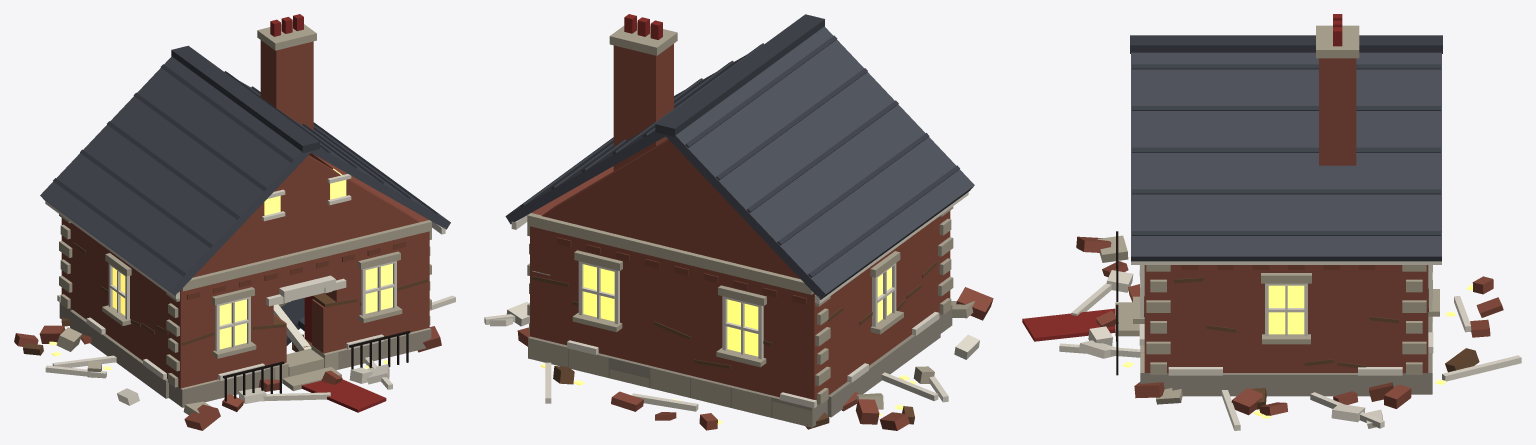
Rendered from house_ldn.glb.
3 views of the same model, side by side, from view 1: azimuth 30°, elevation 25°; view 2: azimuth 150°, elevation 25°; view 3: azimuth 270°, elevation 25° (orthographic). The views are drawn at different scales.
Parts seen in each view (by area): view 1: wall_front, wall_left, wall_front_broken, roof_left_c2, roof_left_c5, roof_left_c0, roof_left, roof_left_c1, roof_right_c5, roof_left_c3, wall_left_broken, roof_right (+15 smaller); view 2: wall_left, wall_back, roof_left_c0, roof_left_c3, roof_left_c2, wall_back_broken, roof_right_c3, roof_left, roof_right_c0, roof_left_c1, roof_left_c5, wall_left_broken (+16 smaller); view 3: wall_right, roof_right, roof_right_c2, roof_right_c0, roof_right_c5, wall_front_broken, roof_right_c3, roof_right_c4, wall_right_broken, roof_right_c1, wall_back_broken, wall_front (+7 smaller).
Part boxes in pixels (x1,y1,x2,y2): wall_front: (169, 222, 431, 407); wall_left: (59, 214, 179, 398); wall_front_broken: (181, 279, 441, 430); roof_left_c2: (123, 168, 253, 299); roof_left_c5: (206, 109, 311, 263); roof_left_c0: (40, 108, 169, 233); roof_left: (41, 50, 302, 298); roof_left_c1: (87, 142, 205, 260); roof_right_c5: (264, 107, 367, 250); roof_left_c3: (123, 47, 227, 142); wall_left_broken: (14, 242, 168, 405); roof_right: (181, 14, 441, 234); wall_left: (815, 206, 953, 416); wall_back: (527, 215, 827, 427); roof_left_c0: (731, 155, 879, 303); roof_left_c3: (665, 86, 784, 263); roof_left_c2: (826, 85, 974, 229); wall_back_broken: (528, 276, 829, 430); roof_right_c3: (600, 47, 672, 247); roof_left: (664, 19, 973, 303); roof_right_c0: (505, 19, 649, 231); roof_left_c1: (785, 125, 920, 259); roof_left_c5: (760, 16, 879, 124); wall_left_broken: (828, 261, 979, 430); wall_right: (1146, 265, 1426, 396); roof_right: (1130, 14, 1442, 264); roof_right_c2: (1131, 128, 1243, 261); roof_right_c0: (1329, 24, 1441, 261); roof_right_c5: (1130, 40, 1243, 127); wall_front_broken: (1022, 235, 1182, 404); roof_right_c3: (1333, 18, 1441, 127); roof_right_c4: (1244, 40, 1318, 127); wall_right_broken: (1168, 277, 1411, 430); roof_right_c1: (1244, 128, 1328, 261); wall_back_broken: (1428, 276, 1521, 393); wall_front: (1116, 231, 1172, 389).
Bounding box in the file's own units: 13.26 × 9.74 × 12.68.
Materials: 1 (1 with a texture image).
